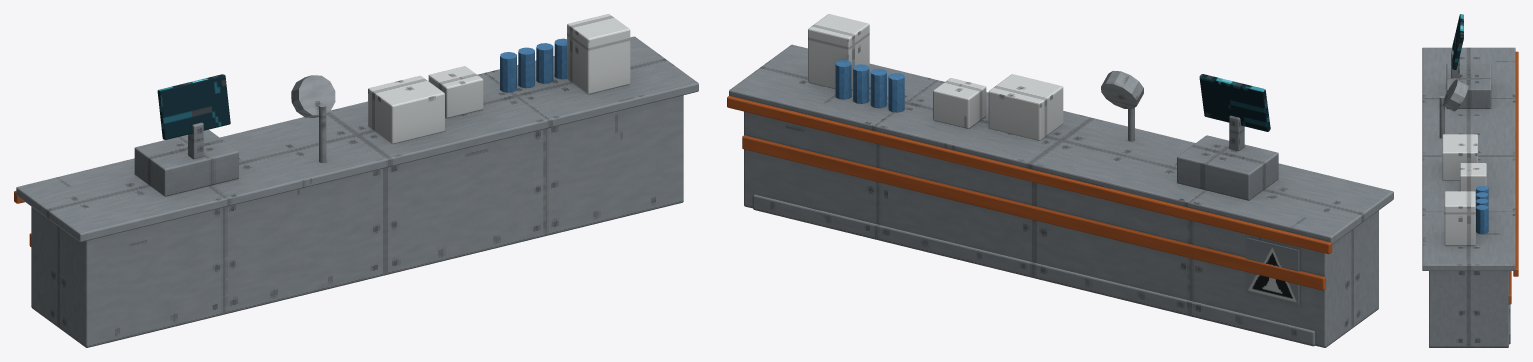
File: base_store_counter.glb
3 views of the same model, side by side, from view 1: azimuth 30°, elevation 25°; view 2: azimuth 150°, elevation 25°; view 3: azimuth 270°, elevation 25° (orthographic). The views are drawn at different scales.
Parts seen in each view (by area): view 1: base_store_counter; view 2: base_store_counter; view 3: base_store_counter.
Part boxes in pixels (bbox=[...]): base_store_counter: bbox=[14, 14, 698, 347]; base_store_counter: bbox=[727, 14, 1393, 347]; base_store_counter: bbox=[1422, 14, 1518, 347].
Bounding box in the file's own units: 5.8 × 1.96 × 1.08.
6 materials, 6 textured.
